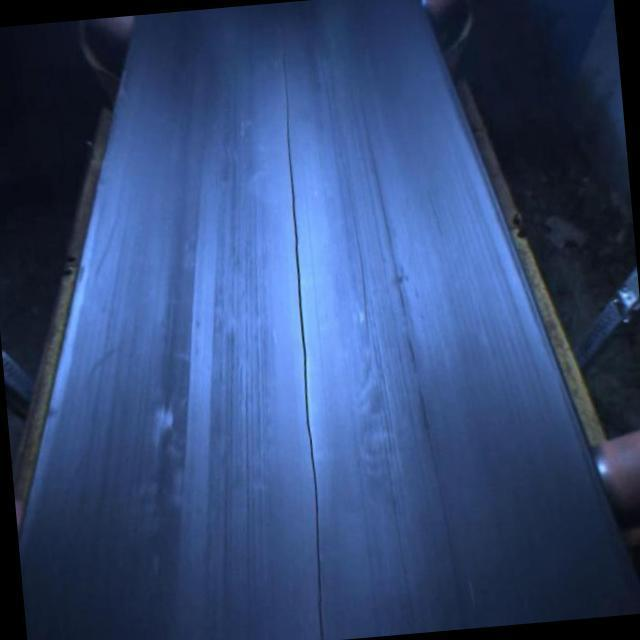Tear: (274, 20, 327, 640)
